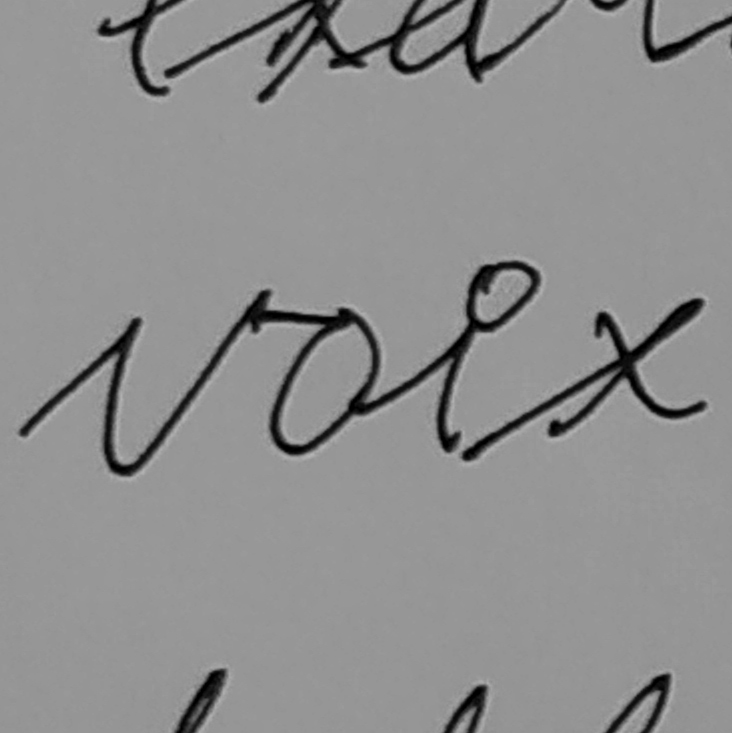i: (426, 254, 542, 458)
o: (264, 300, 388, 459)
v: (92, 285, 276, 480)
x: (545, 295, 709, 439)
